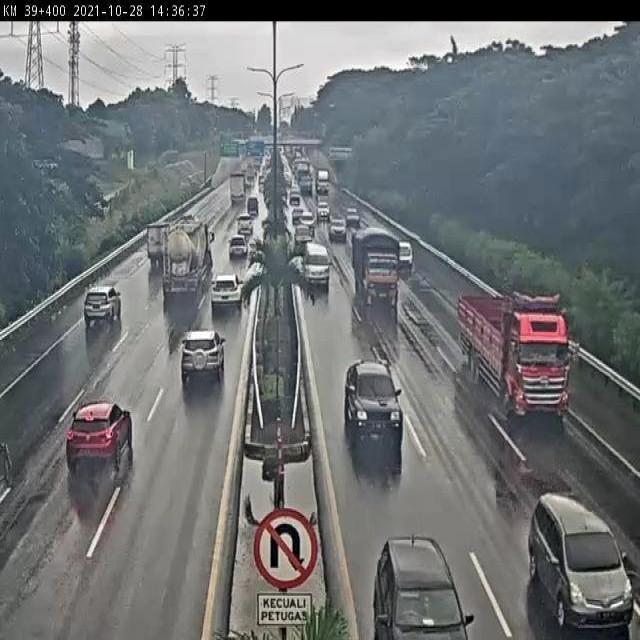truck-m-: (459, 291, 571, 417), (350, 224, 397, 296)
truck-xl-: (158, 216, 212, 300)
